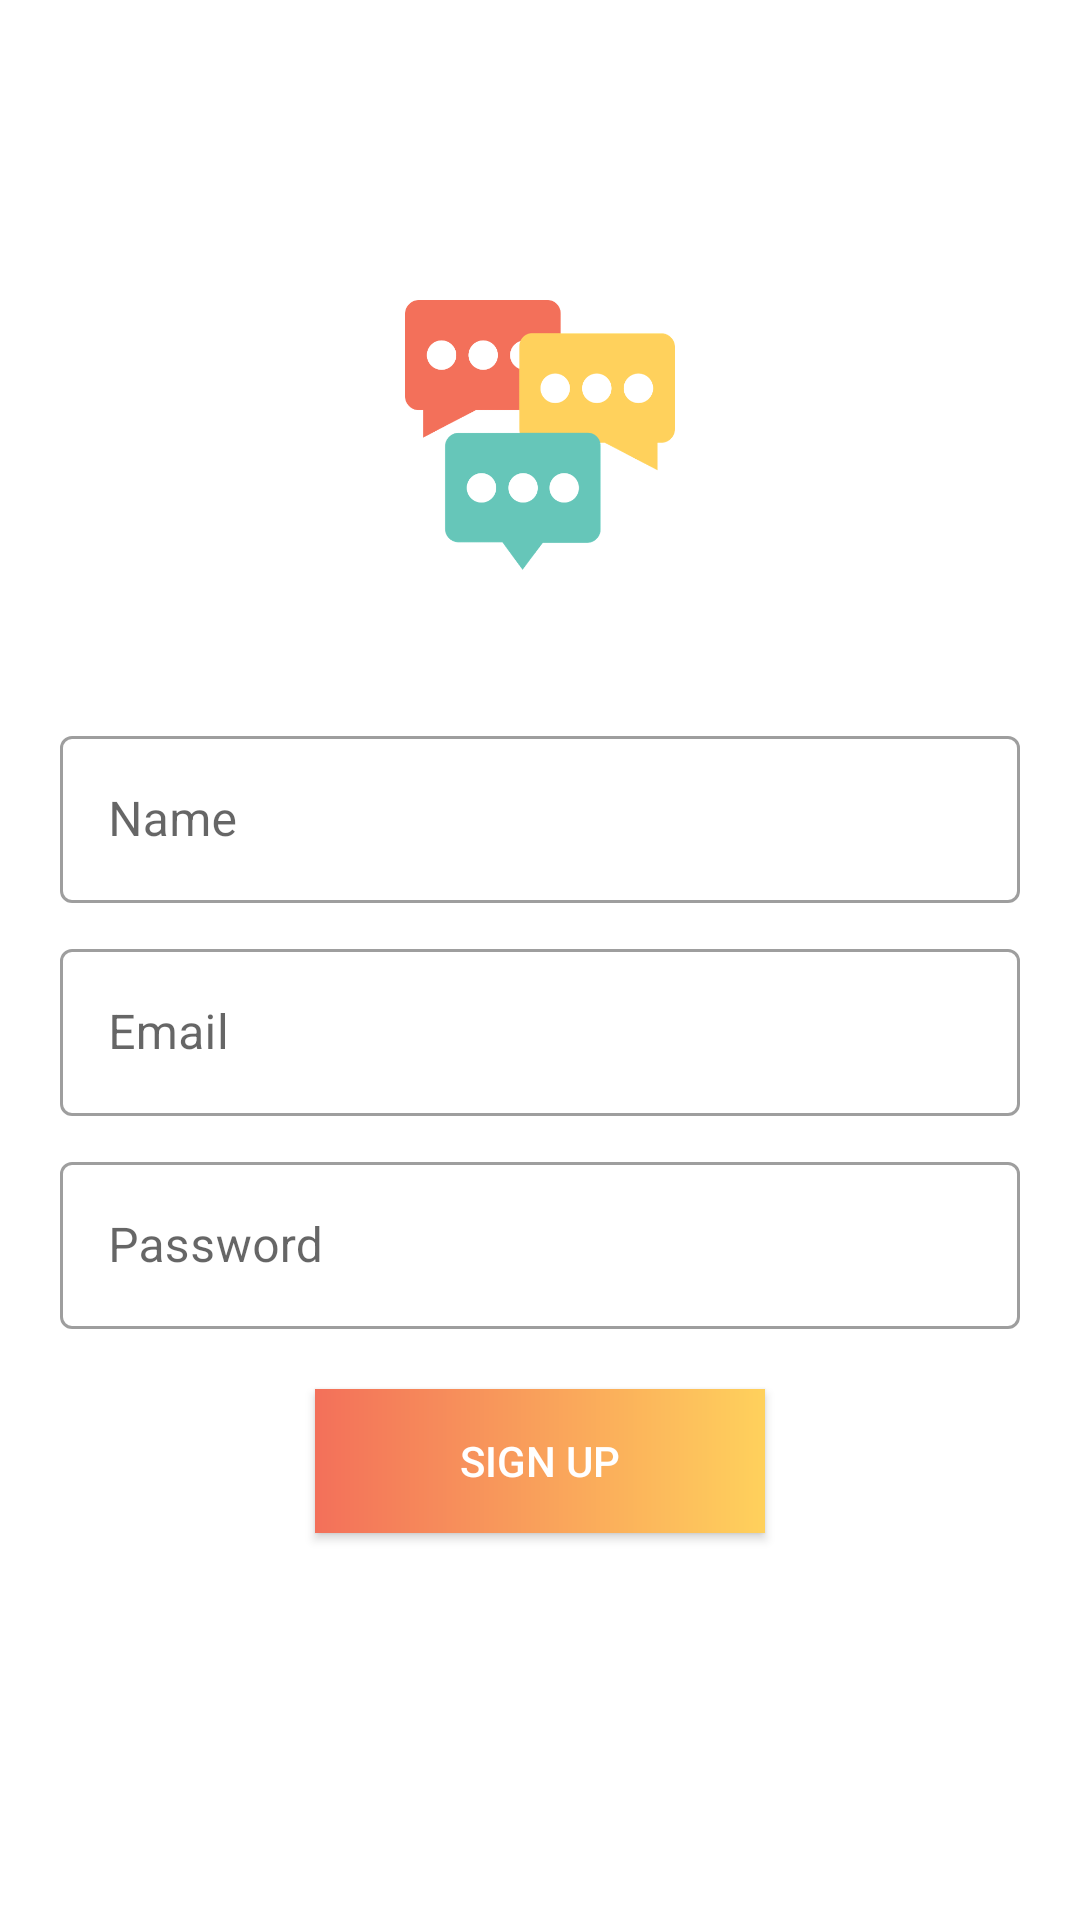

Icons on this 1080×1920 Android screen, each with its box as (x1, y1, x2, y2):
chat: (405, 300, 675, 570)
